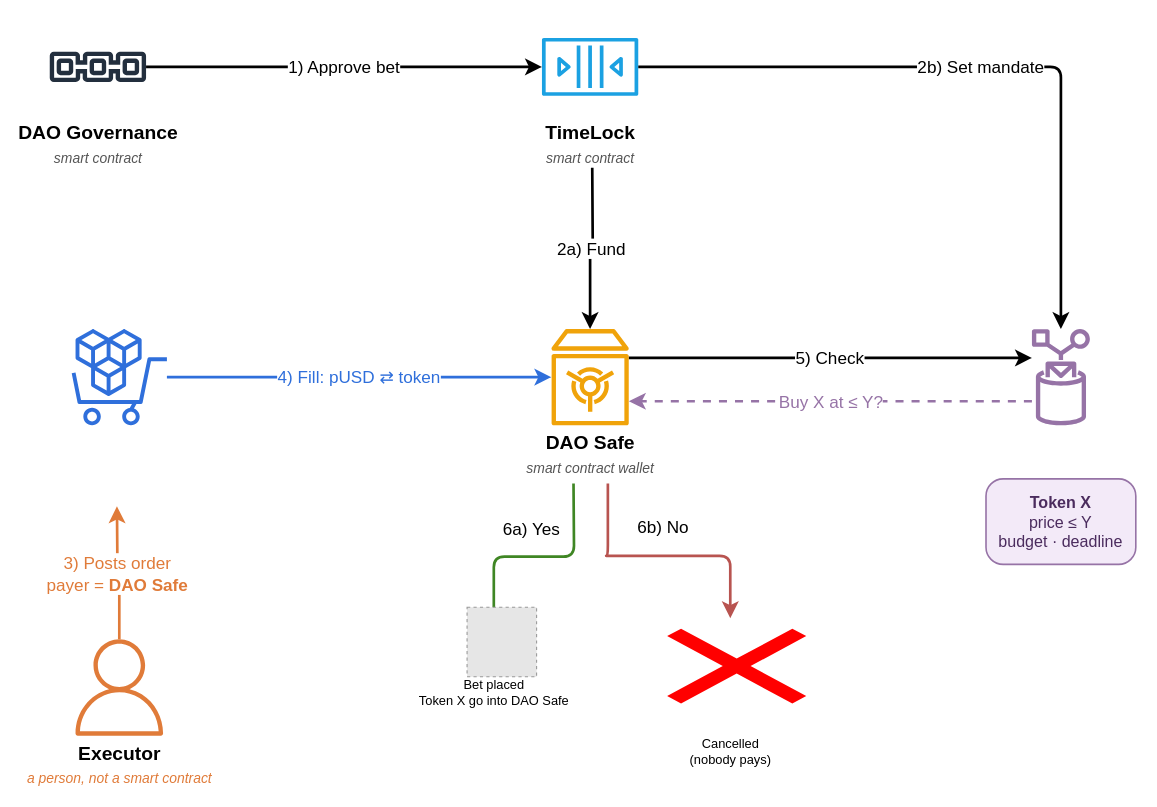
Some shapes in this 1157 by 807 pixel diagram are drawn without their labels. Grey dashed boxes stand in for pictures. Here are the shapes that lost their labels. From the top down, the centre of each, then its label:
(119,376): Polymarket order book: off-chain exchange: smart contract
(1060,376): Mandate Handler smart contract
